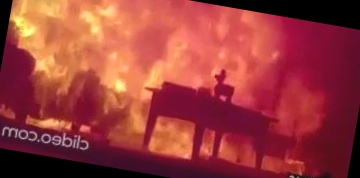fire: (0, 0, 333, 169)
